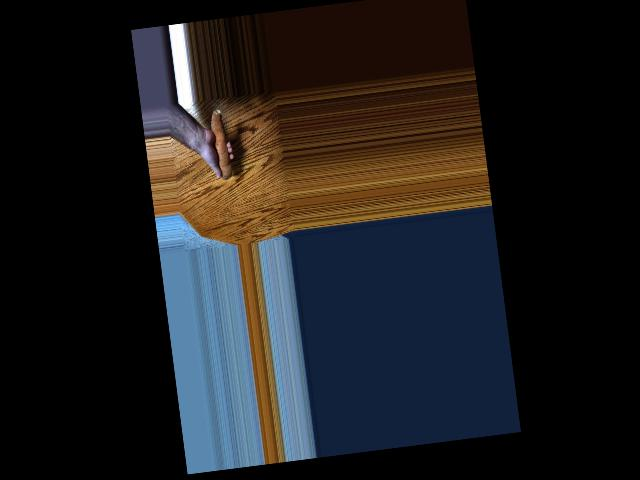sweet_potato: (204, 107, 237, 186)
